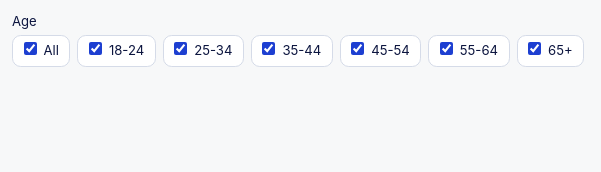
AgeRangeChips › unticks All when one band is taken away
The width and height of the screenshot is (601, 172).
Step 1. Click the checkbox labelled "65+" → (534, 49), box x1=528 y1=42 x2=541 y2=55
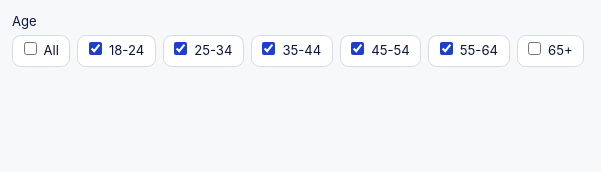
expect the checkbox labelled "All" is not checked: met, box x1=24 y1=42 x2=36 y2=55
